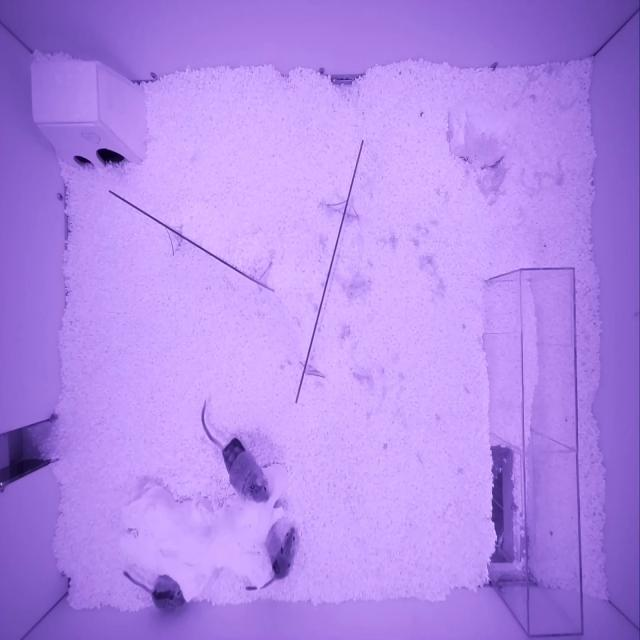adult_back: (222, 438, 269, 502)
pup_spotted: (271, 528, 295, 580)
pup_v_stripe: (152, 576, 187, 613)
